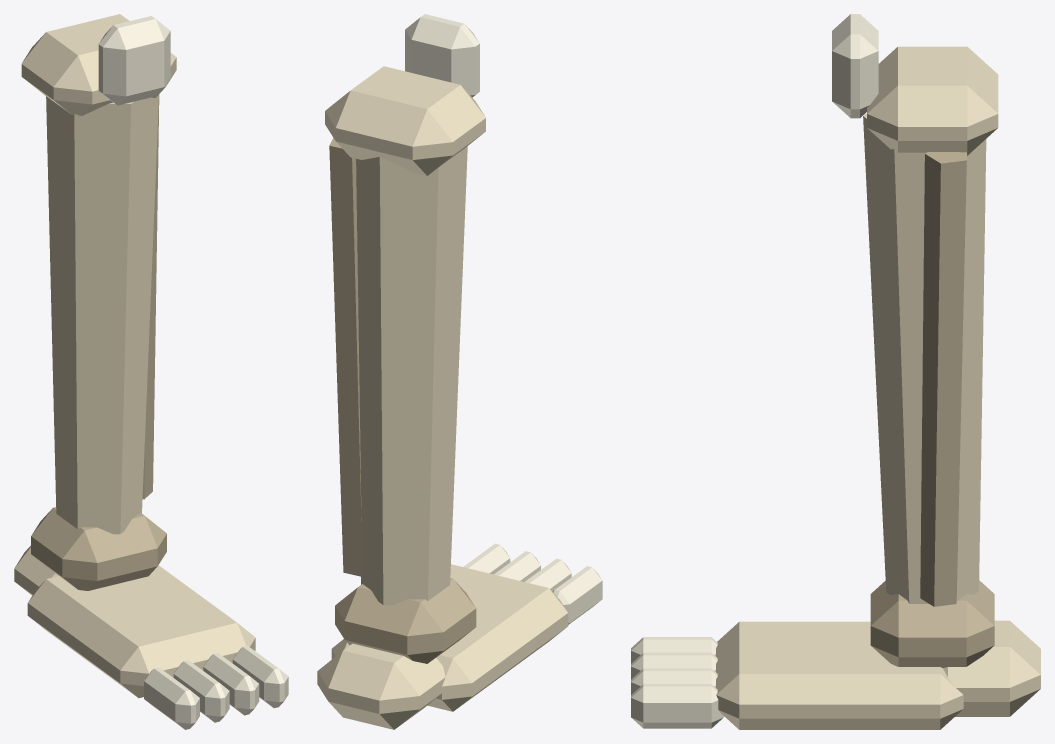
File: gamba_sotto.glb
3 renders of one model, left to right at view 1: azimuth 30°, elevation 25°; view 2: azimuth 150°, elevation 25°; view 3: azimuth 270°, elevation 25°, orthographic. The views are drawn at different scales.
Visible parts, largest first — view 1: gamba_sotto2; view 2: gamba_sotto2; view 3: gamba_sotto2.
Part boxes in pixels (x1,y1,x2,y2): gamba_sotto2: [14, 14, 288, 729]; gamba_sotto2: [317, 14, 602, 729]; gamba_sotto2: [631, 14, 1040, 729].
Size of the model in its own units: 0.11 by 0.485 by 0.265.
